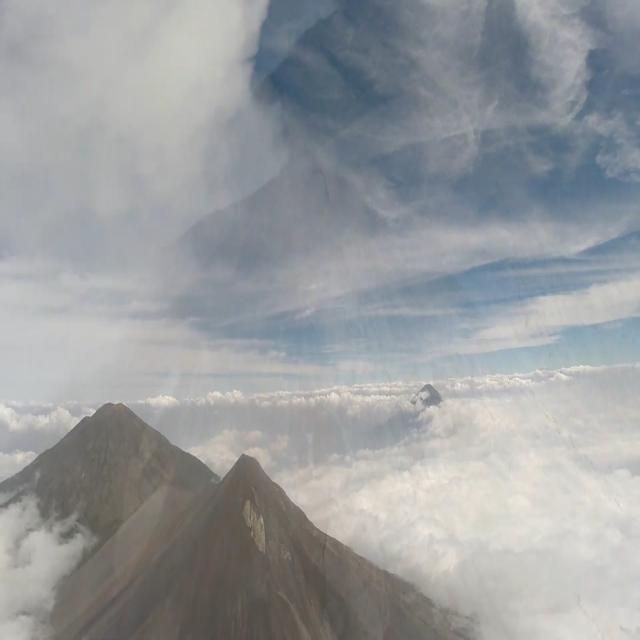Summit: (164, 448, 344, 560)
